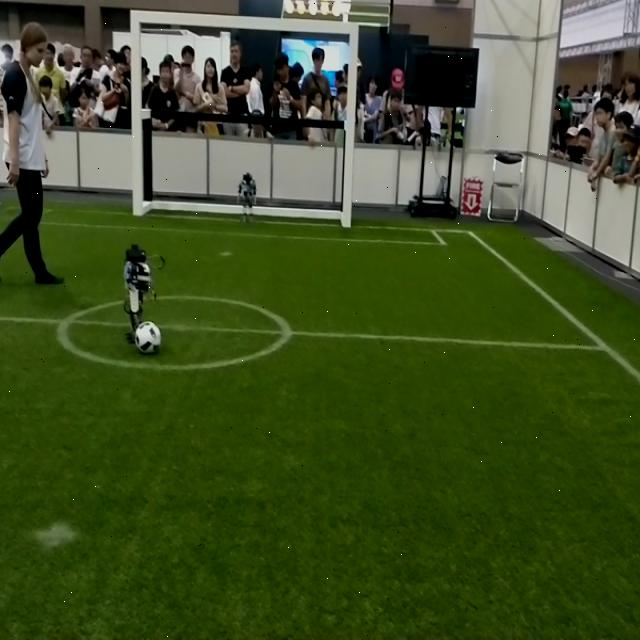ball: (134, 319, 164, 357)
goalpost: (342, 18, 361, 229), (128, 8, 144, 214)
